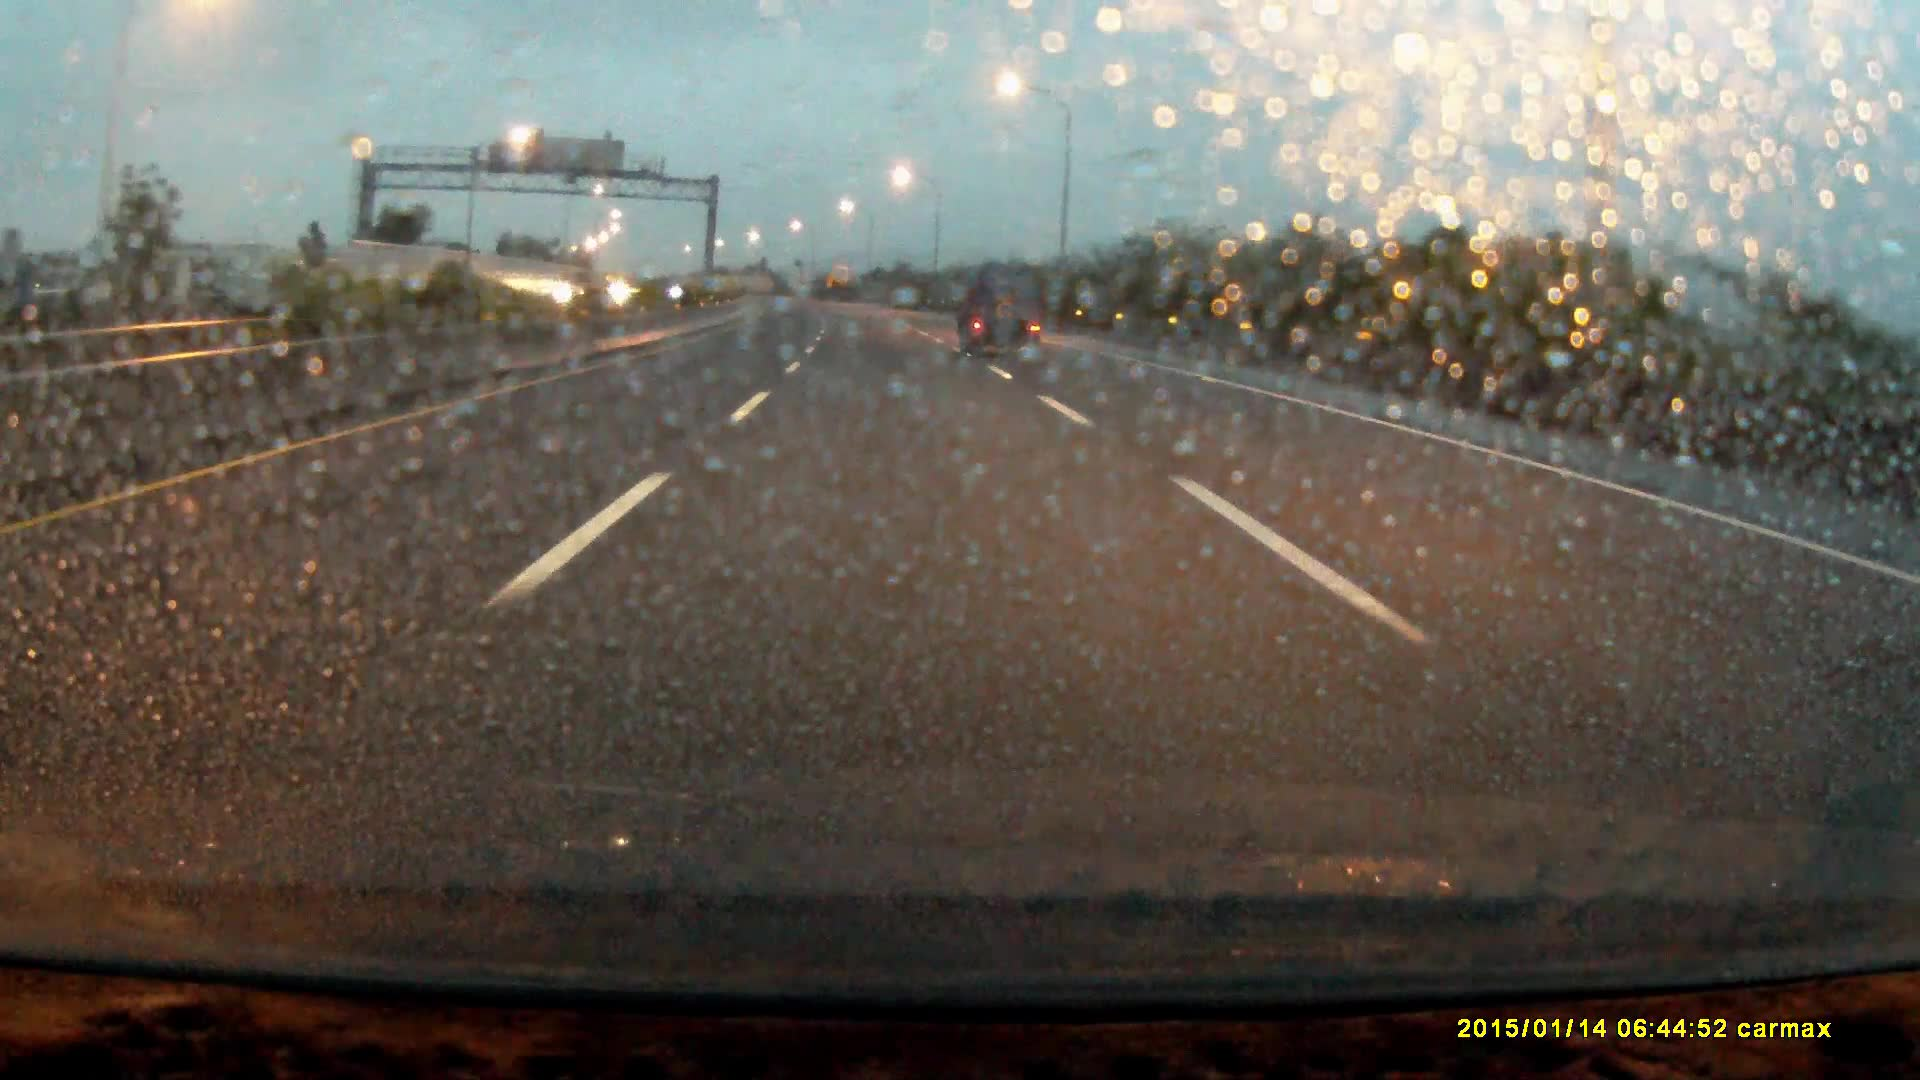vehicle: (961, 273, 1048, 361), (555, 272, 601, 307)
